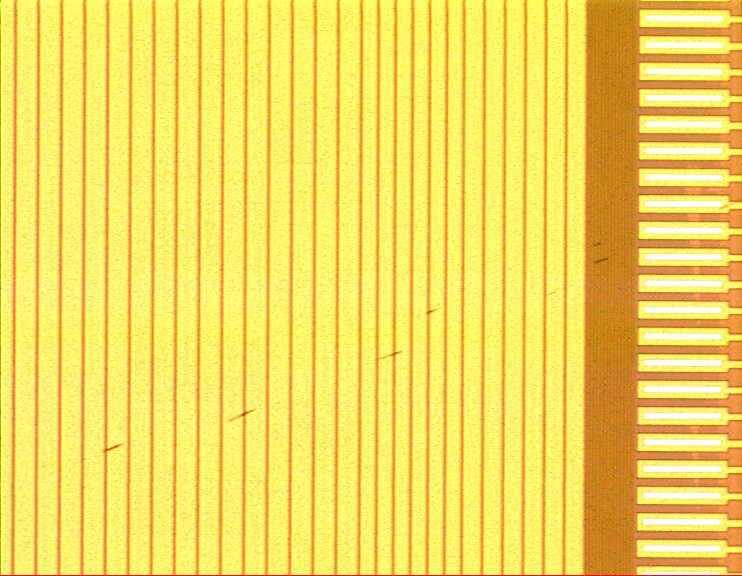SCRATCH: (14, 192, 742, 494)
